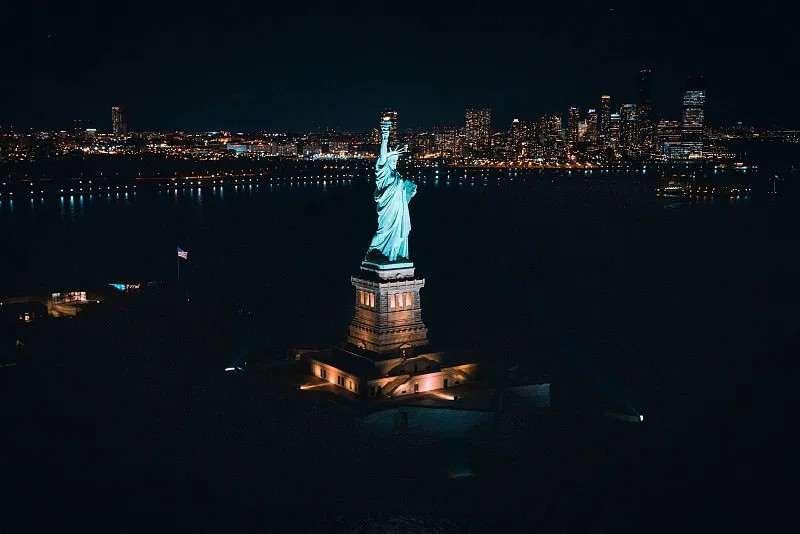SL: (346, 106, 429, 351)
